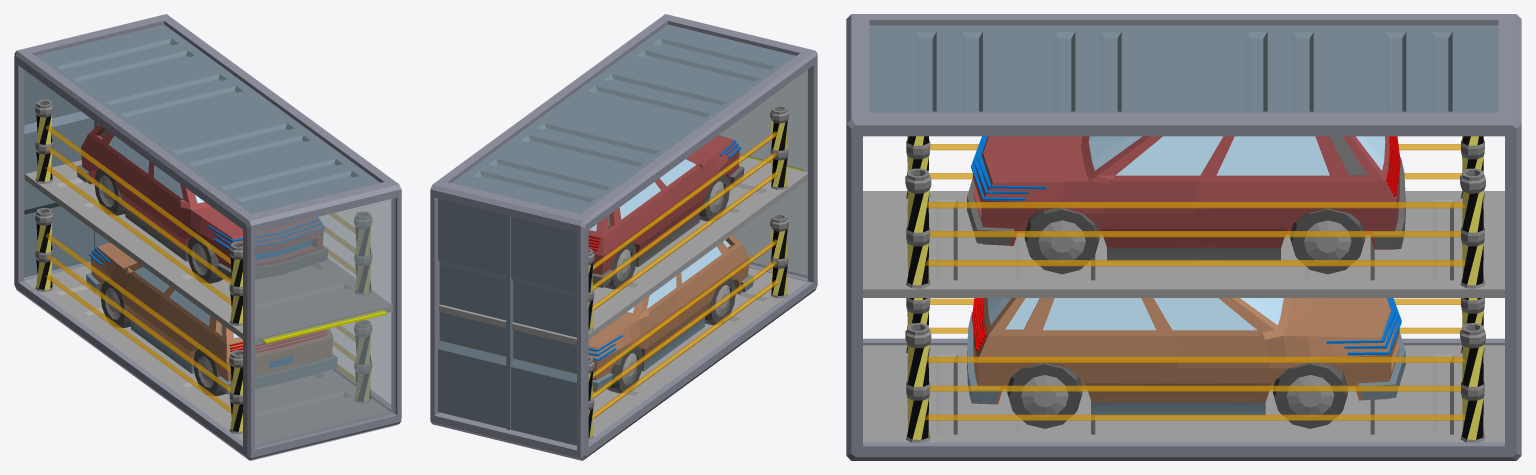
Rendered from long04.fbx.
3 renders of one model, left to right at view 1: azimuth 30°, elevation 25°; view 2: azimuth 150°, elevation 25°; view 3: azimuth 270°, elevation 25°, orthographic. The views are drawn at different scales.
Visible parts, largest first — view 1: pCube107, polySurface31, polySurface30, pCube99, polySurface322, pCube106, polySurface324, polySurface323, pasted__barril7, pasted__barril4, pasted__barril2, pasted__barril6 (+9 smaller); view 2: polySurface323, polySurface31, polySurface30, pCube106, pCube99, polySurface322, pCube107, polySurface324, pasted__barril8, pasted__barril5, pCube105, pCube98 (+6 smaller); view 3: polySurface31, polySurface30, pCube99, pCube106, polySurface322, polySurface324, pCube100, pCube85, pCube102, pCube87, pCube86, pCube101 (+10 smaller).
Part boxes in pixels (x1=…): pCube107: x1=251, y1=198, x2=398, y2=460; polySurface31: x1=35, y1=24, x2=380, y2=213; polySurface30: x1=14, y1=14, x2=401, y2=460; pCube99: x1=77, y1=124, x2=327, y2=283; polySurface322: x1=24, y1=160, x2=392, y2=344; pCube106: x1=86, y1=242, x2=337, y2=396; polySurface324: x1=24, y1=265, x2=389, y2=444; polySurface323: x1=24, y1=70, x2=109, y2=277; pasted__barril7: x1=35, y1=208, x2=53, y2=292; pasted__barril4: x1=35, y1=99, x2=53, y2=183; pasted__barril2: x1=354, y1=211, x2=371, y2=295; pasted__barril6: x1=354, y1=320, x2=371, y2=403; polySurface323: x1=438, y1=198, x2=576, y2=445; polySurface31: x1=451, y1=24, x2=796, y2=214; polySurface30: x1=430, y1=14, x2=817, y2=460; pCube106: x1=588, y1=235, x2=753, y2=393; pCube99: x1=588, y1=135, x2=744, y2=289; polySurface322: x1=439, y1=156, x2=807, y2=345; pCube107: x1=719, y1=70, x2=807, y2=281; polySurface324: x1=588, y1=267, x2=806, y2=441; pasted__barril8: x1=770, y1=214, x2=788, y2=298; pasted__barril5: x1=770, y1=105, x2=788, y2=189; pCube105: x1=592, y1=280, x2=778, y2=419; pCube98: x1=592, y1=172, x2=778, y2=311; polySurface31: x1=869, y1=25, x2=1498, y2=112; polySurface30: x1=846, y1=14, x2=1521, y2=460; pCube99: x1=967, y1=136, x2=1405, y2=274; pCube106: x1=967, y1=298, x2=1405, y2=428; polySurface322: x1=863, y1=191, x2=1504, y2=297; polySurface324: x1=863, y1=345, x2=1504, y2=442; pCube100: x1=925, y1=414, x2=1465, y2=420; pCube85: x1=925, y1=260, x2=1465, y2=266; pCube102: x1=927, y1=356, x2=1465, y2=362; pCube87: x1=926, y1=202, x2=1465, y2=208; pCube86: x1=930, y1=231, x2=1460, y2=237; pCube101: x1=930, y1=385, x2=1460, y2=391.
Size of the model in its own units: 3 by 4.46 by 7.96.
